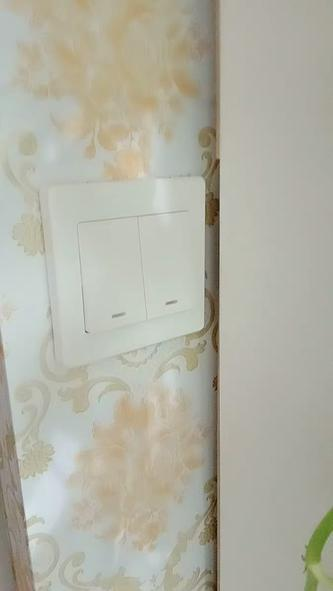switch: (73, 204, 151, 337), (134, 200, 199, 324)
